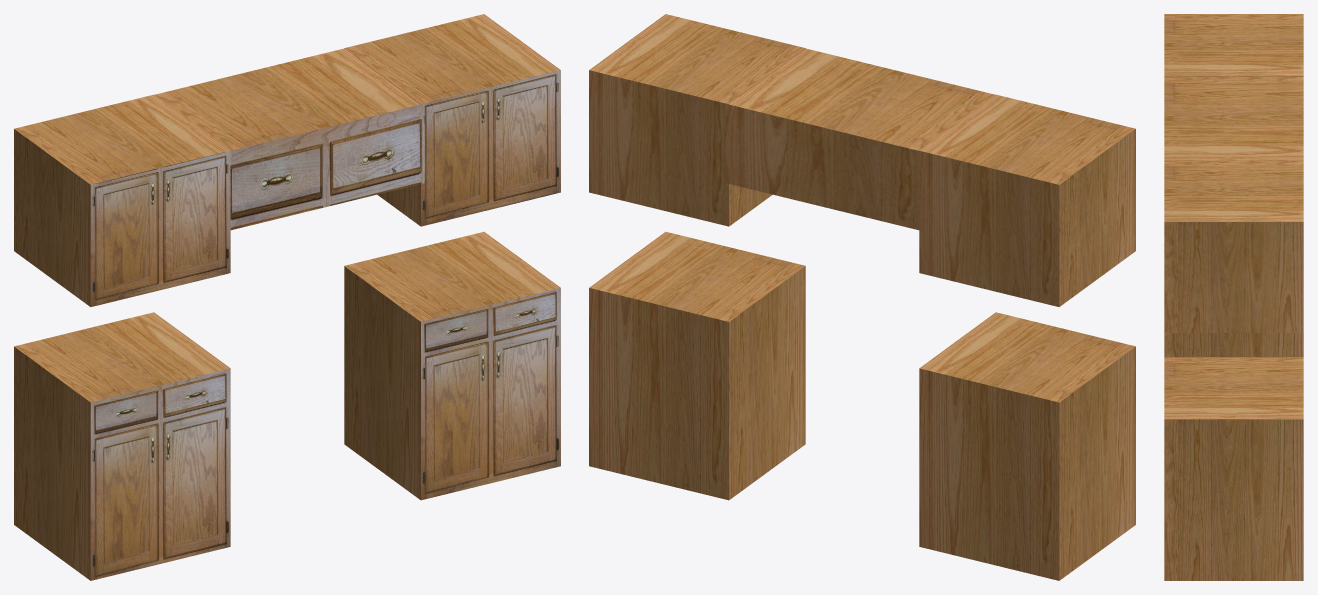
Rendered from kitchen cabinets.fbx.
3 views of the same model, side by side, from view 1: azimuth 30°, elevation 25°; view 2: azimuth 150°, elevation 25°; view 3: azimuth 270°, elevation 25° (orthographic). The views are drawn at different scales.
Parts seen in each view (by area): view 1: pasted__pCube2 (×2), pCube2, pasted__pasted__pasted__pCube2, pasted__pasted__pCube2; view 2: pasted__pCube2 (×2), pCube2, pasted__pasted__pasted__pCube2, pasted__pasted__pCube2; view 3: pasted__pCube2 (×2), pasted__pasted__pCube2, pasted__pasted__pasted__pCube2, pCube2.
Boxes of the visible parts, left/top/right/bottom form: pasted__pCube2 (×2): left=14, top=94, right=560, bottom=500; pCube2: left=14, top=312, right=230, bottom=580; pasted__pasted__pasted__pCube2: left=154, top=48, right=424, bottom=230; pasted__pasted__pCube2: left=344, top=14, right=560, bottom=226; pasted__pCube2 (×2): left=589, top=94, right=1135, bottom=500; pCube2: left=919, top=312, right=1135, bottom=580; pasted__pasted__pasted__pCube2: left=725, top=48, right=995, bottom=230; pasted__pasted__pCube2: left=589, top=14, right=805, bottom=226; pasted__pCube2 (×2): left=1164, top=14, right=1303, bottom=580; pasted__pasted__pCube2: left=1164, top=160, right=1303, bottom=332; pasted__pasted__pasted__pCube2: left=1164, top=76, right=1303, bottom=159; pCube2: left=1164, top=333, right=1303, bottom=357.
Size of the model in its own units: 12.72 by 10.24 by 3.59.
Materials: 5 (5 with a texture image).
